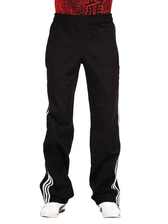clothoes: (40, 10, 126, 204)
shoes: (37, 200, 73, 224), (91, 201, 126, 219)
